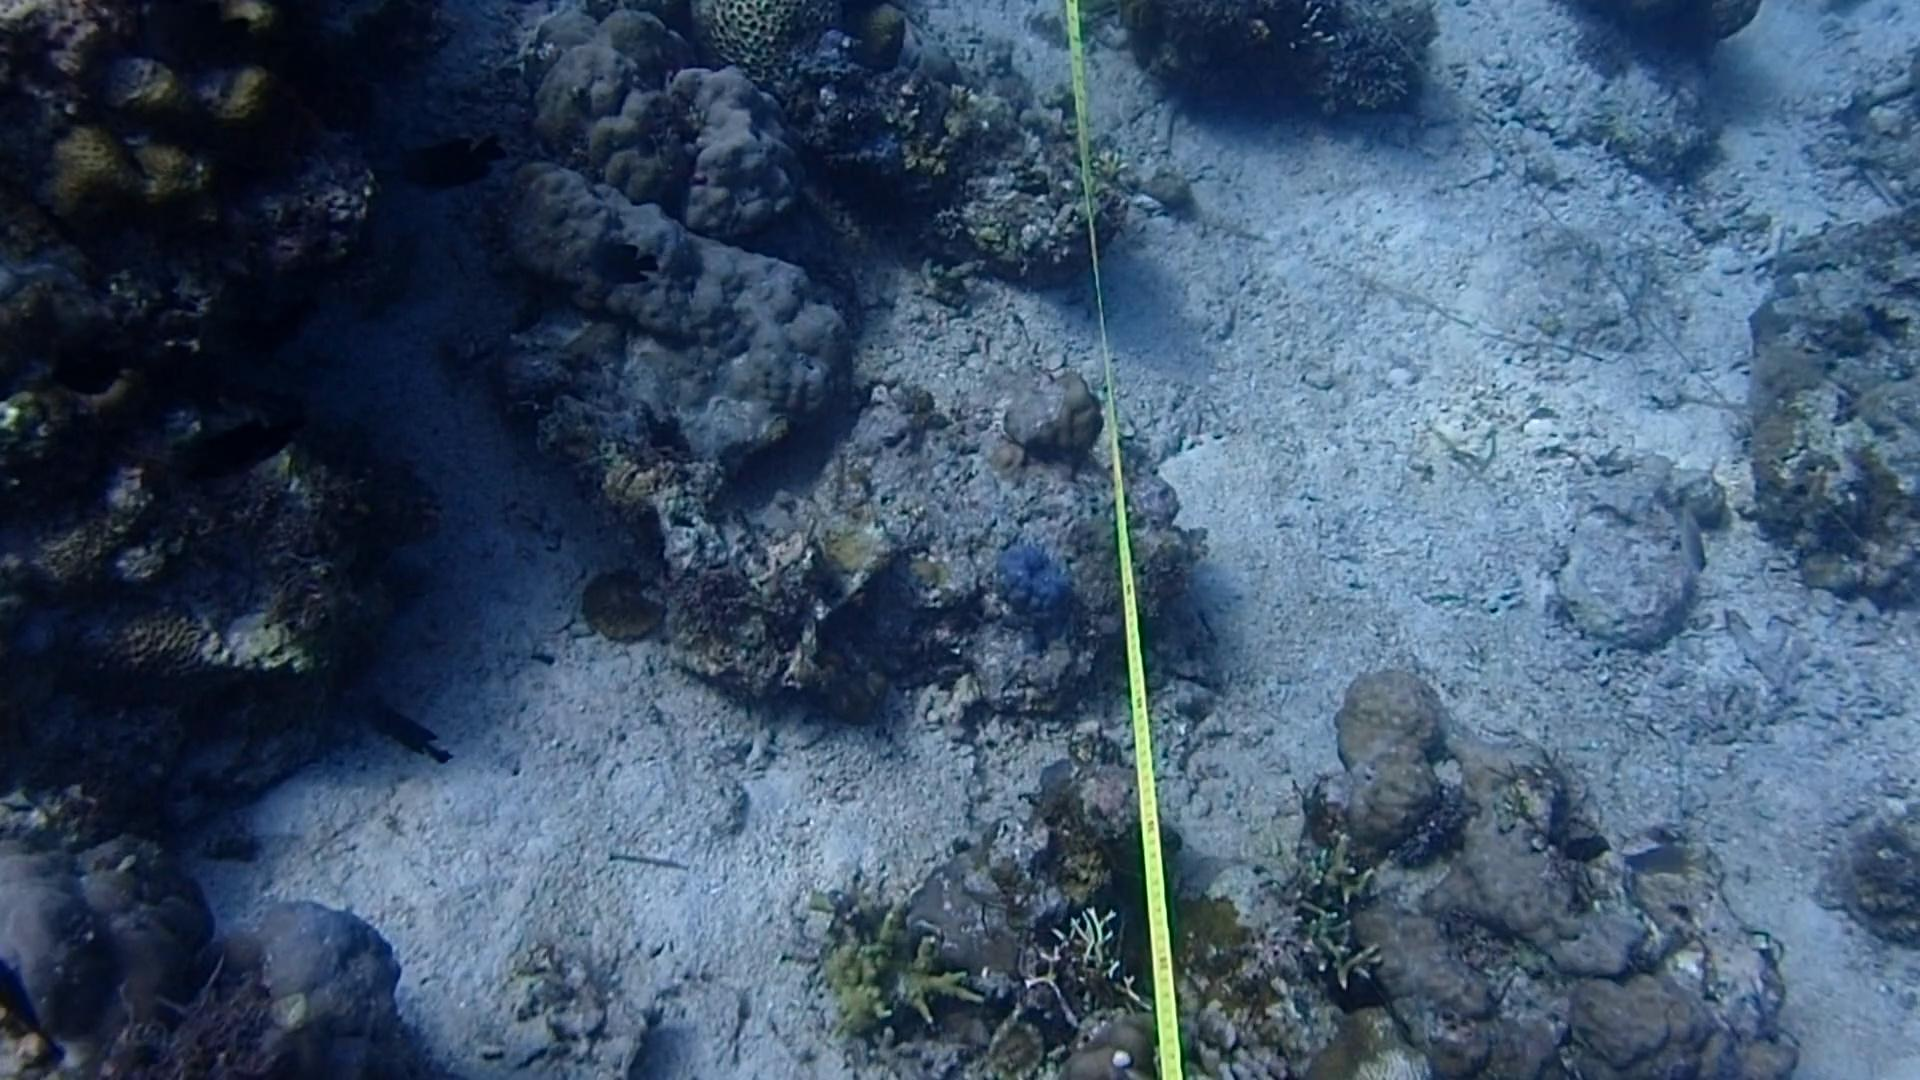Dark Fish: (343, 680, 467, 796), (165, 407, 313, 495), (381, 125, 508, 196), (593, 233, 666, 297)
Light Fish: (1671, 496, 1712, 584)
